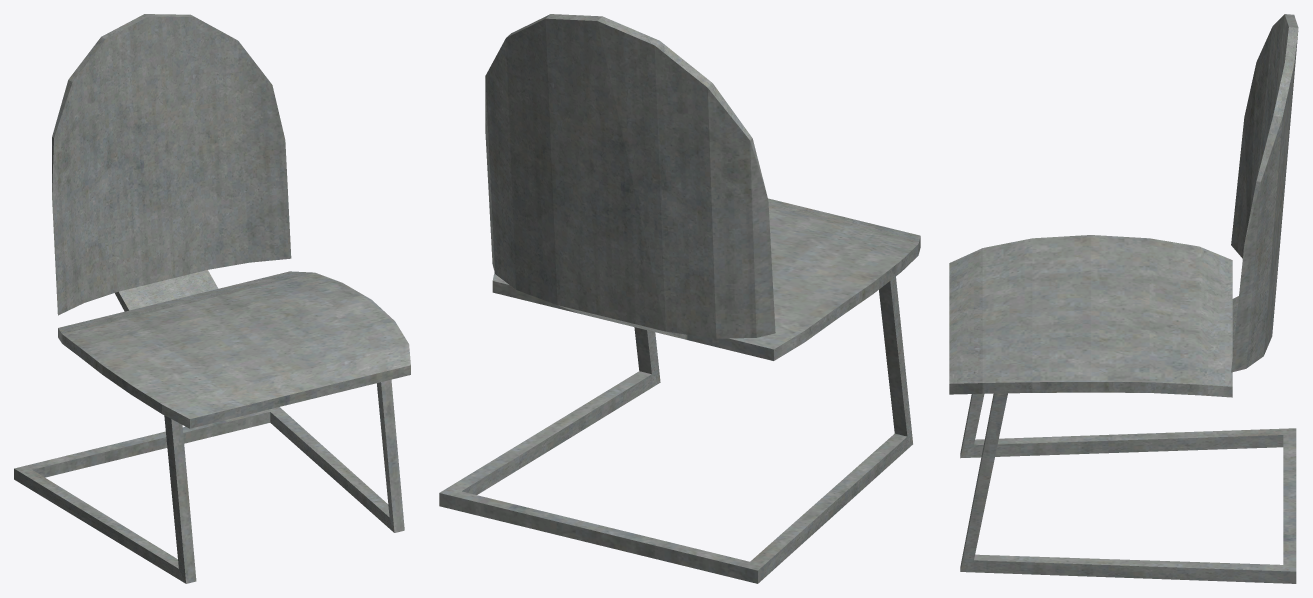
File: frn_all_chair_cafe_s02_l0.fbx
The picture shows the model from 3 angles, left to right: view 1: azimuth 30°, elevation 25°; view 2: azimuth 150°, elevation 25°; view 3: azimuth 270°, elevation 25°; orthographic projection. The views are drawn at different scales.
Visible parts, largest first — view 1: mesh_node; view 2: mesh_node; view 3: mesh_node.
Part boxes in pixels (left/top/right/bottom): mesh_node: left=14, top=14, right=410, bottom=583; mesh_node: left=439, top=14, right=920, bottom=583; mesh_node: left=949, top=14, right=1298, bottom=583.
Size of the model in its own units: 0.6166 by 0.9492 by 0.6189.
